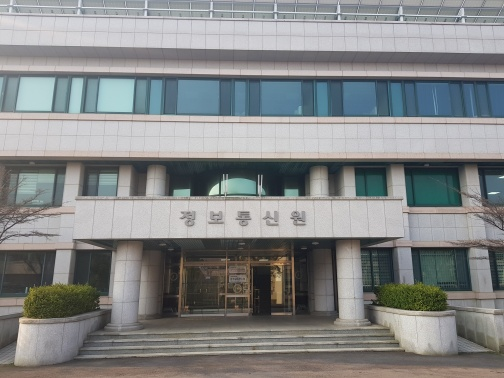Information Telecommunication Center: (3, 7, 499, 325), (131, 129, 343, 334), (171, 250, 317, 317), (169, 183, 313, 240)
